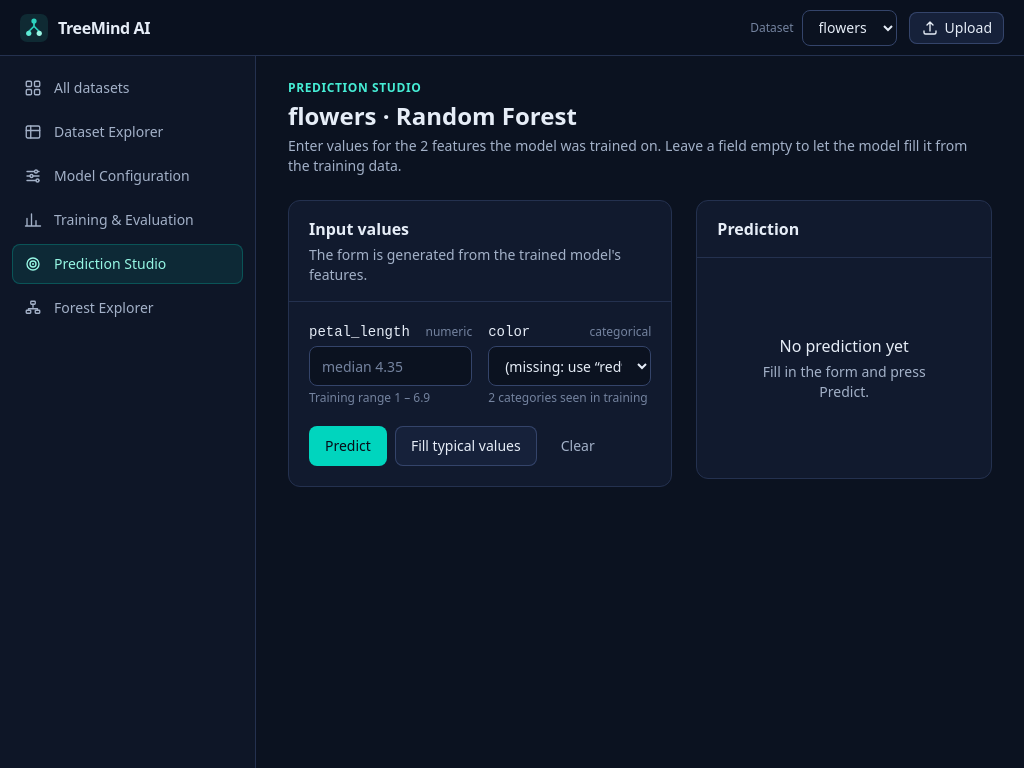
Prediction Studio › shows backend validation errors
Click the button "Predict" at (348, 446), box x1=309 y1=426 x2=387 y2=466
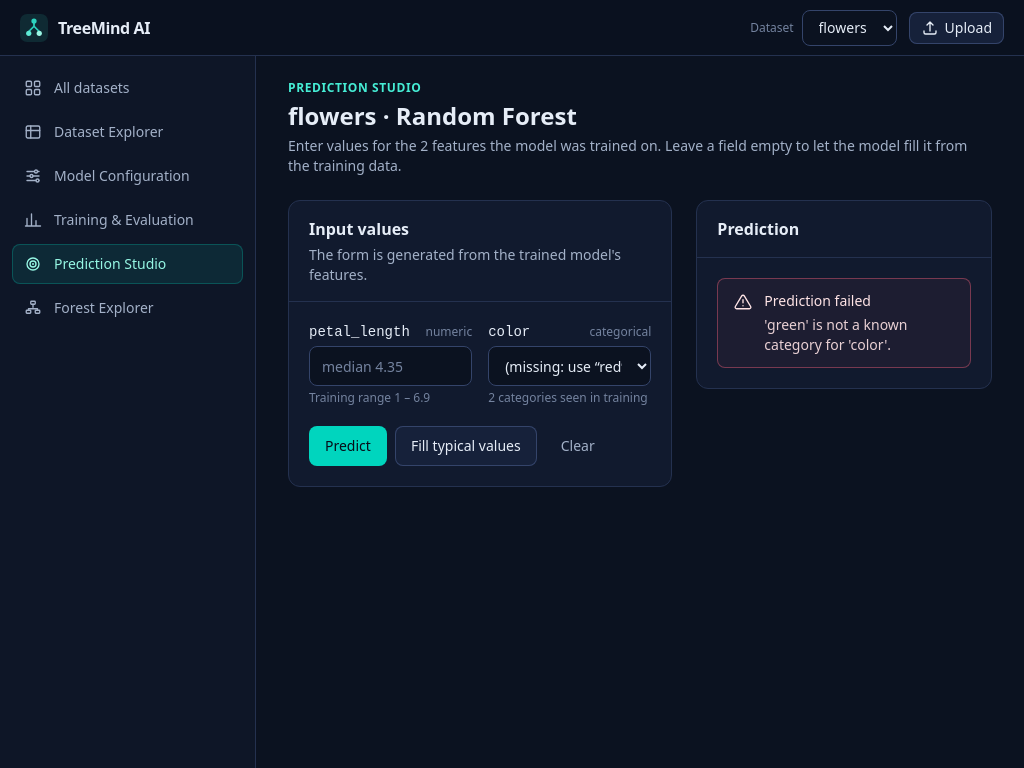
Now the text "'green' is not a known category for 'color'." is shown, box x1=764 y1=315 x2=908 y2=354
